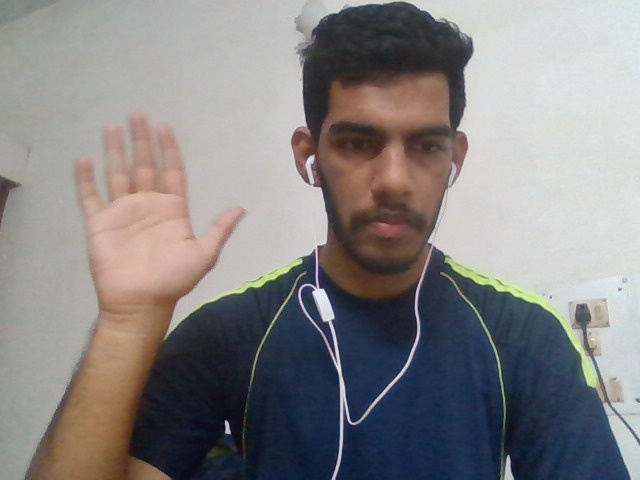hi: (43, 109, 257, 322)
